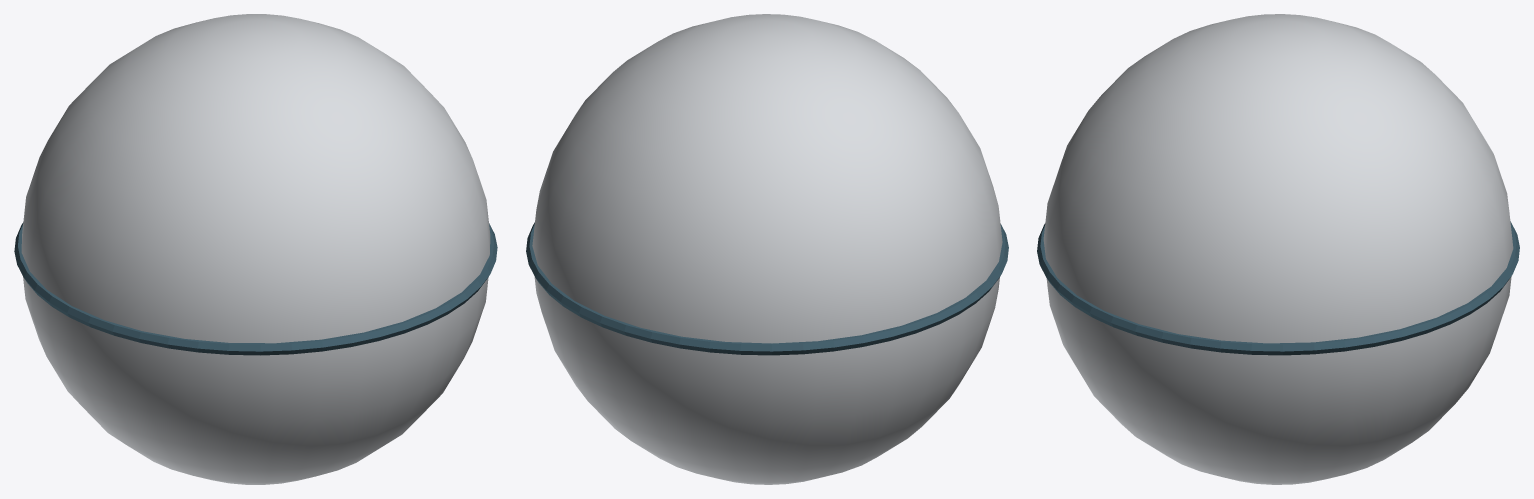
The model's file is hole_12_cinematic.fbx.
3 renders of one model, left to right at view 1: azimuth 30°, elevation 25°; view 2: azimuth 150°, elevation 25°; view 3: azimuth 270°, elevation 25°, orthographic.
Visible parts, largest first — view 1: BALL, BALL_STRIPE; view 2: BALL, BALL_STRIPE; view 3: BALL, BALL_STRIPE.
Boxes of the visible parts, box(x1,y1,x2,y2) form: BALL: box(21, 14, 490, 484); BALL_STRIPE: box(14, 222, 497, 355); BALL: box(532, 14, 1002, 484); BALL_STRIPE: box(526, 222, 1008, 355); BALL: box(1043, 14, 1513, 484); BALL_STRIPE: box(1037, 221, 1519, 355).
Size of what is drawn, in the model's own units: 0.9218 by 0.9 by 0.9218.
